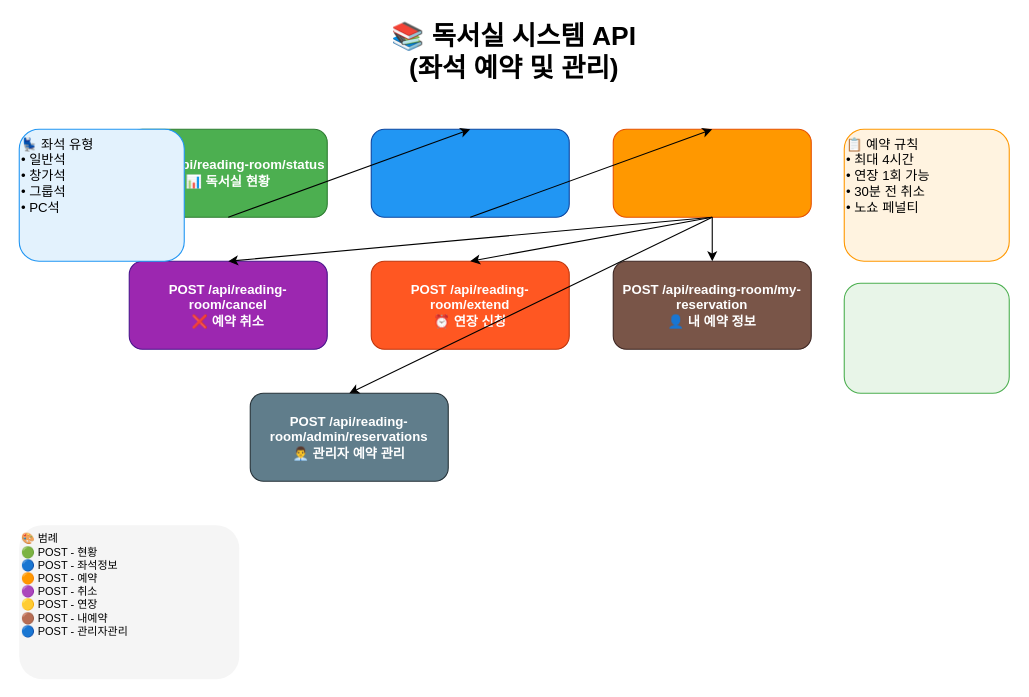
This 1029x697 diagram has some shape labels left out. The shapes that lost their labels are listed below. From the top down, each one's centre as x and y in pixels, then its label:
At point (469, 172): "POST /api/reading-room/seats 💺 좌석 정보 조회".
At point (711, 172): "POST /api/reading-room/reserve 📝 좌석 예약".
At point (926, 337): "🔄 실시간 업데이트 • WebSocket • 좌석 상태 • 예약 변경 알림".
